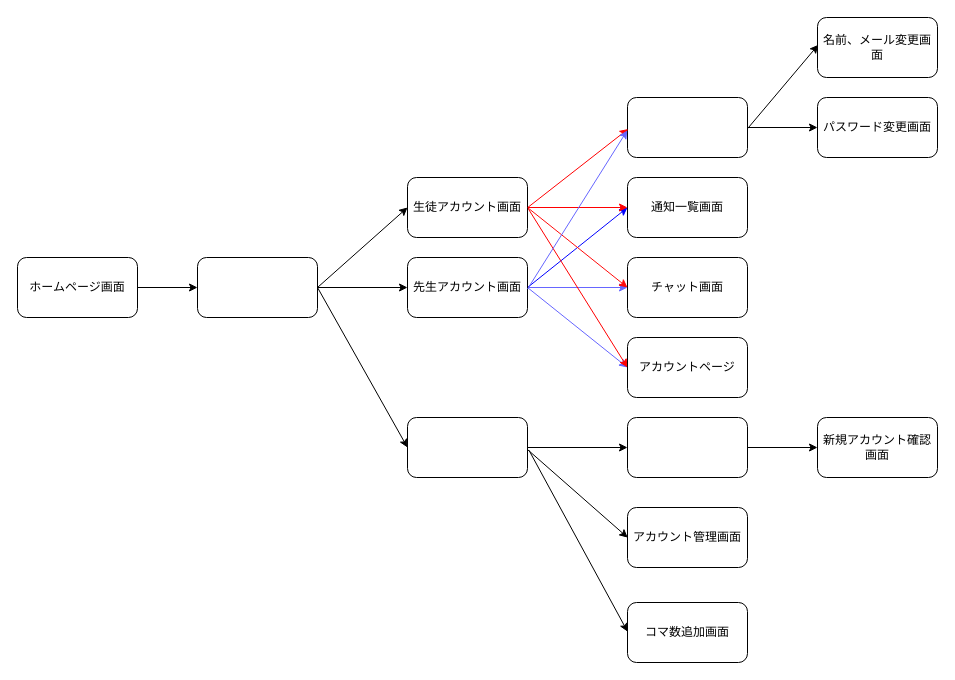
The diagram is 955 pixels wide and 680 high, and some of its shapes have lost their labels. Here are the shapes that lost their labels. From the top down, the centre of each, then its label:
At point 687,127: "ユーザーアカウント画面".
At point 257,287: "ログイン画面".
At point 467,447: "管理者画面".
At point 687,447: "新規アカウント登録".
